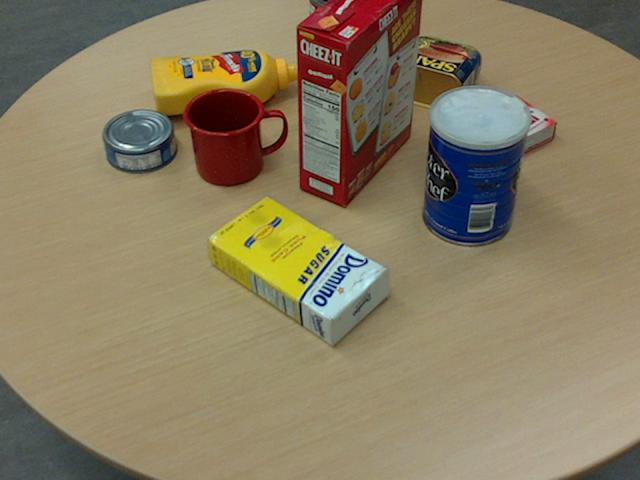cracker_box: (295, 0, 423, 205)
gelatin_box: (462, 93, 556, 161)
large_marker: (325, 21, 341, 110)
master_chef_can: (422, 85, 529, 247)
mug: (181, 87, 285, 185)
mustard_bottle: (149, 49, 302, 114)
potted_meat_can: (386, 36, 481, 113)
sugar_box: (203, 195, 389, 346)
tomato_soup_can: (310, 0, 360, 72)
tuna_fish_can: (101, 108, 175, 171)
